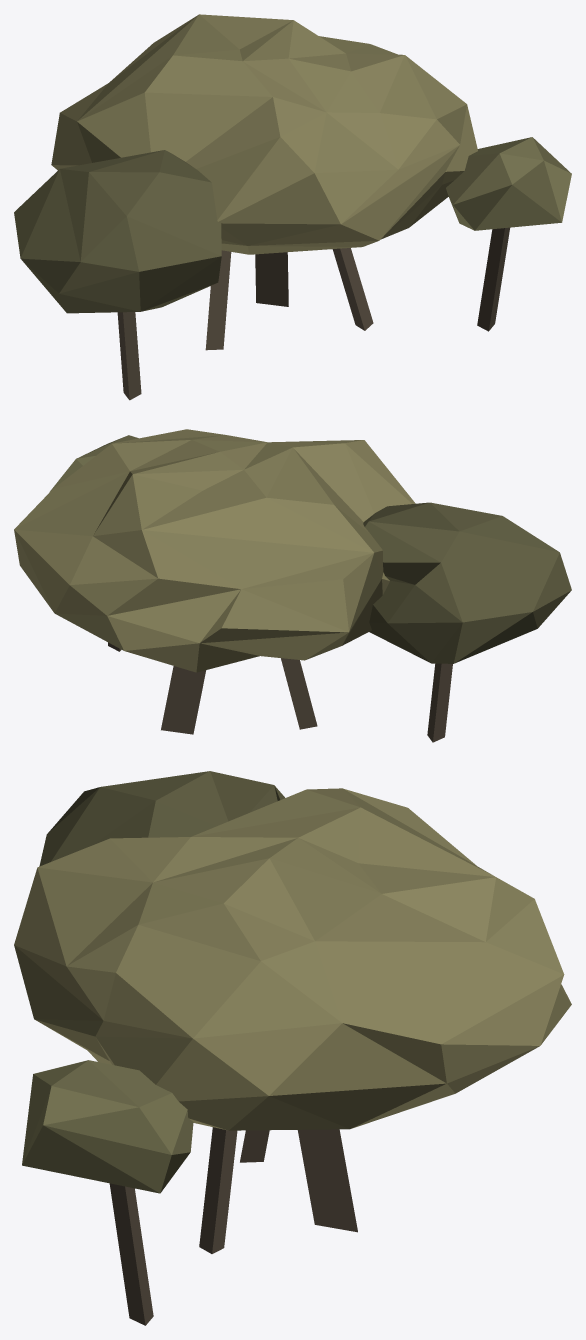
File: SM_Env_Bush_Group_03.glb
3 views of the same model, one above another, from view 1: azimuth 30°, elevation 25°; view 2: azimuth 150°, elevation 25°; view 3: azimuth 270°, elevation 25° (orthographic). The views are drawn at different scales.
Parts seen in each view (by area): view 1: SM_Env_Bush_Group_03; view 2: SM_Env_Bush_Group_03; view 3: SM_Env_Bush_Group_03.
Boxes of the visible parts, bbox=[...] form: SM_Env_Bush_Group_03: bbox=[14, 14, 571, 400]; SM_Env_Bush_Group_03: bbox=[14, 429, 571, 742]; SM_Env_Bush_Group_03: bbox=[14, 771, 571, 1325].
Bounding box in the file's own units: 3.01 × 1.54 × 2.15.
1 material, 1 textured.
